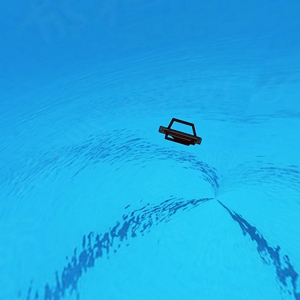submarine: (157, 115, 201, 151)
